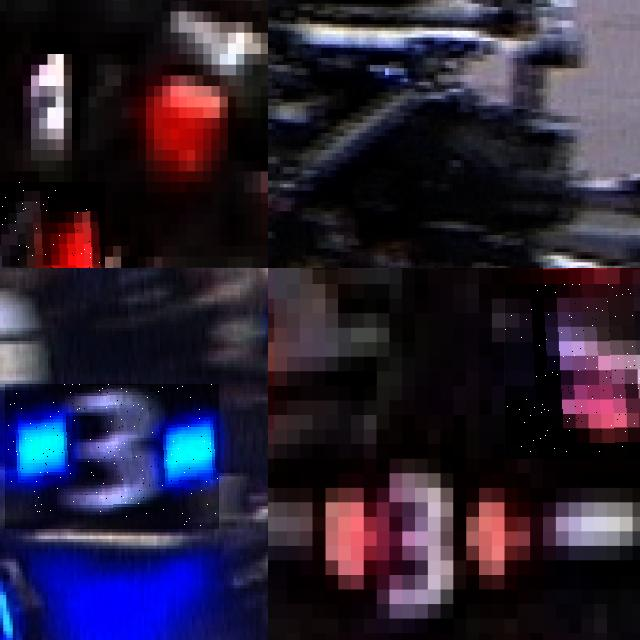B3: (5, 384, 219, 529)
R3: (312, 444, 518, 619), (504, 284, 640, 458)
R4: (0, 182, 104, 268)
